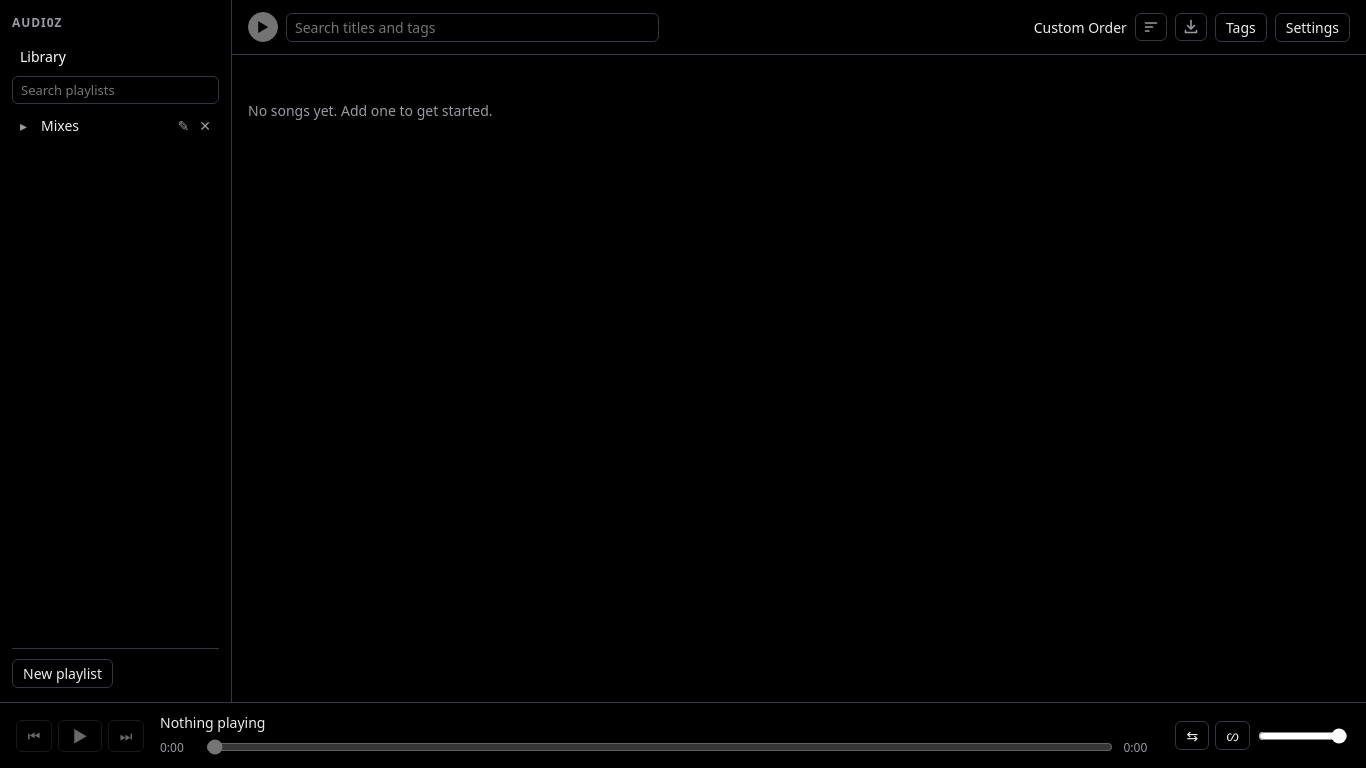
Test case: AddToPlaylistDialog › says the library is empty rather than blaming a search nobody ran
Click the button "Mixes": (102, 126) [33,112,172,139]
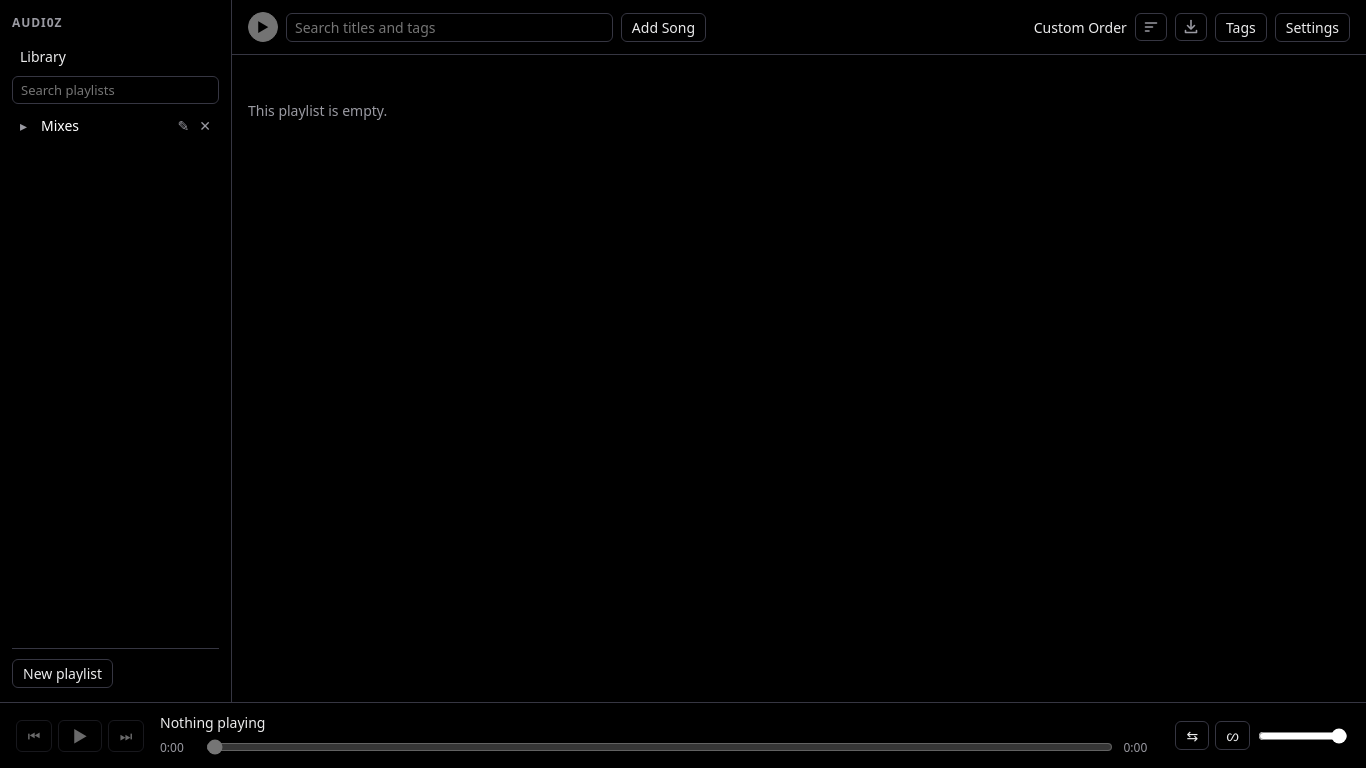
Click the button with aria-label "Add songs to Mixes": (663, 27) [621,12,706,42]
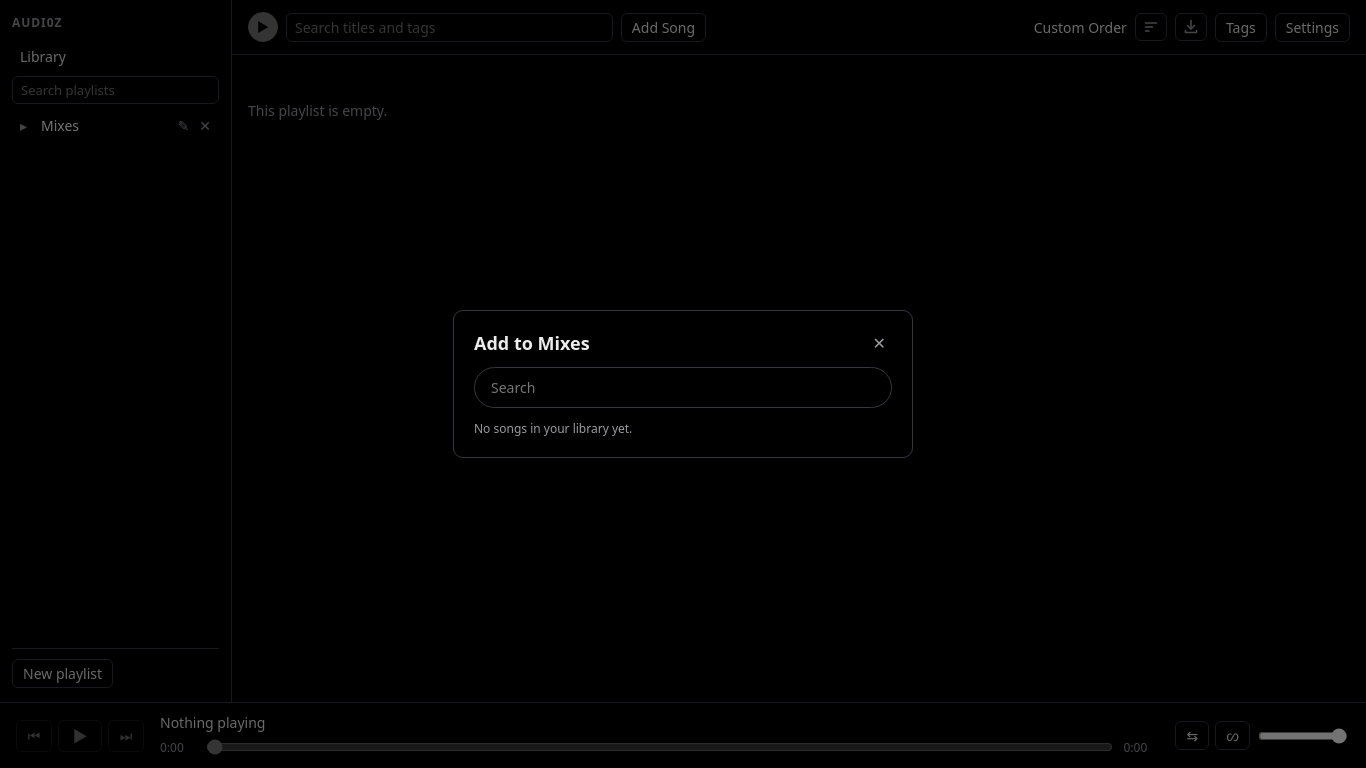
Result: the text "No songs in your library yet." is shown at [474,420,632,437]
